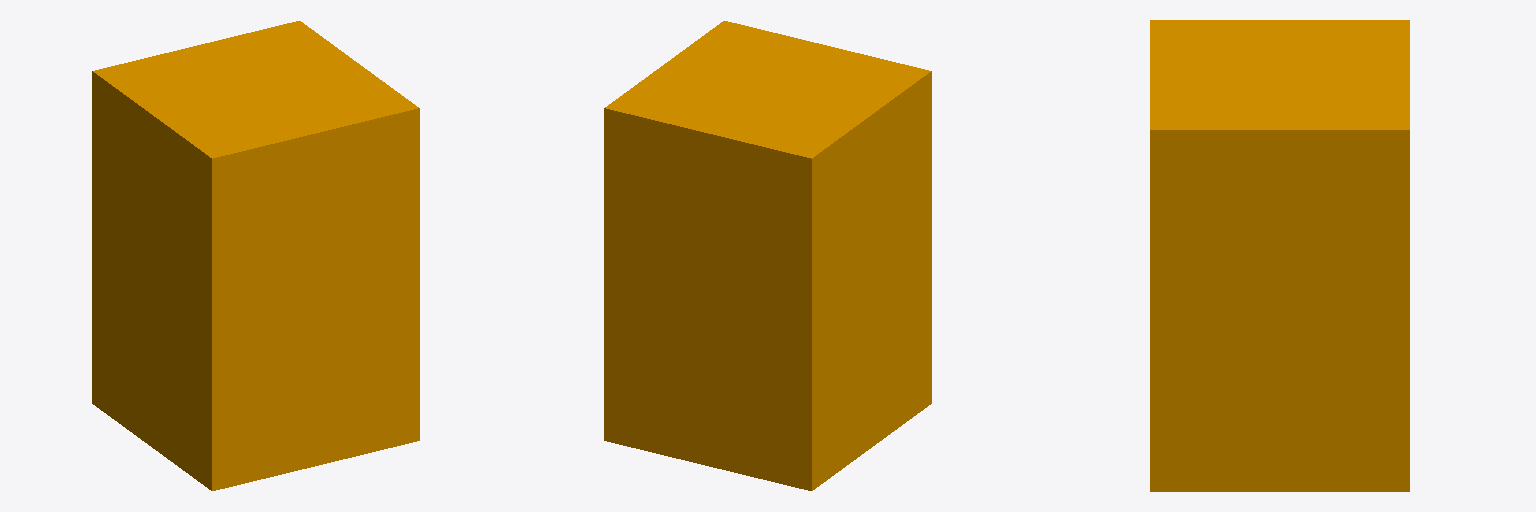
The robot description file, URDF, robot "camera_box_small":
<?xml version="1.0"?>
<robot name="camera_box_small">
  <link name="camera_box_link">
    <visual name="cam_box">
      <origin xyz="0.0 0.0 0.23" rpy="0 0 0"/>
      <geometry>
        <box size="0.3 0.3 0.46"/>
      </geometry>
    </visual>
    <collision name="cam_box">
      <origin xyz="0.0 0.0 0.23" rpy="0 0 0"/>
      <geometry>
        <box size="0.3 0.3 0.46"/>
      </geometry>
    </collision>
  </link>
</robot>

--- What the picture shows (computed from the rendered views, not written in the file) ---
The picture shows the robot from 3 angles, left to right: view 1: azimuth 30°, elevation 25°; view 2: azimuth 150°, elevation 25°; view 3: azimuth 270°, elevation 25°; orthographic projection.
Model camera_box_small with 1 links and 0 joints (none), rooted at camera_box_link, posed every joint at zero.
Links seen in each view (by area): view 1: camera_box_link; view 2: camera_box_link; view 3: camera_box_link.
Boxes of the visible links, <box> form: camera_box_link: <box>92,21,419,490</box>; camera_box_link: <box>604,21,931,490</box>; camera_box_link: <box>1150,20,1409,491</box>.
Size in the robot's own frame: 0.3 by 0.3 by 0.46 metres.
Geometry: primitives only (box / cylinder / sphere), no mesh files.
